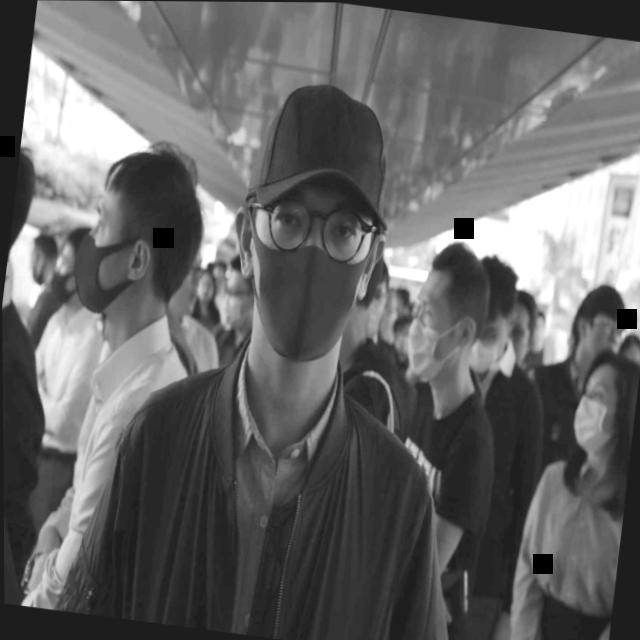Mask: (220, 74, 408, 375), (63, 136, 217, 340), (397, 238, 496, 387), (561, 350, 640, 471), (457, 250, 526, 379), (47, 222, 93, 304), (355, 255, 393, 338), (218, 256, 256, 331)
NO-Mask: (566, 279, 631, 367), (194, 268, 218, 306)
